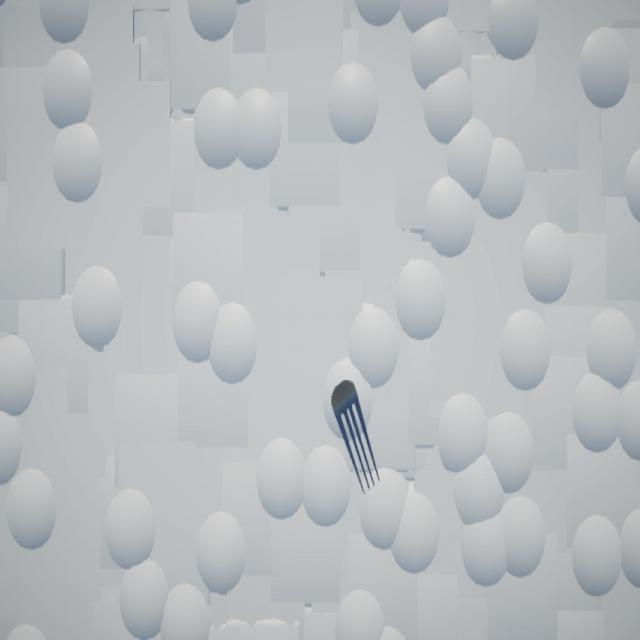top_folk: (332, 380, 381, 495)
